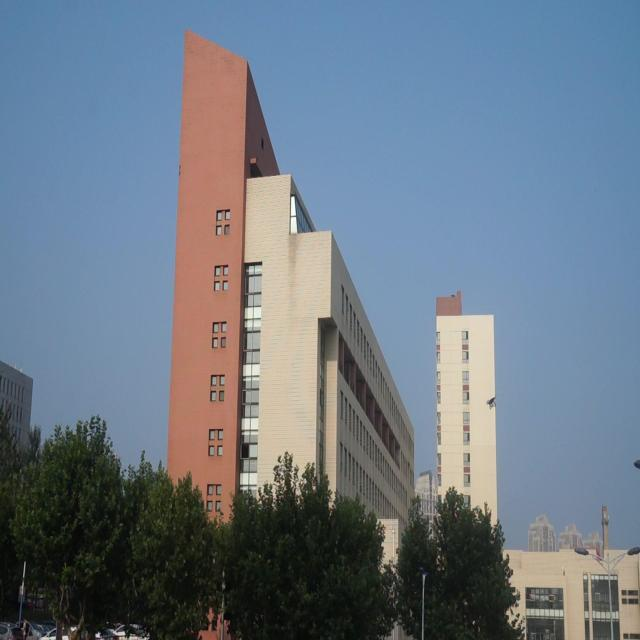drone: (484, 393, 497, 413)
